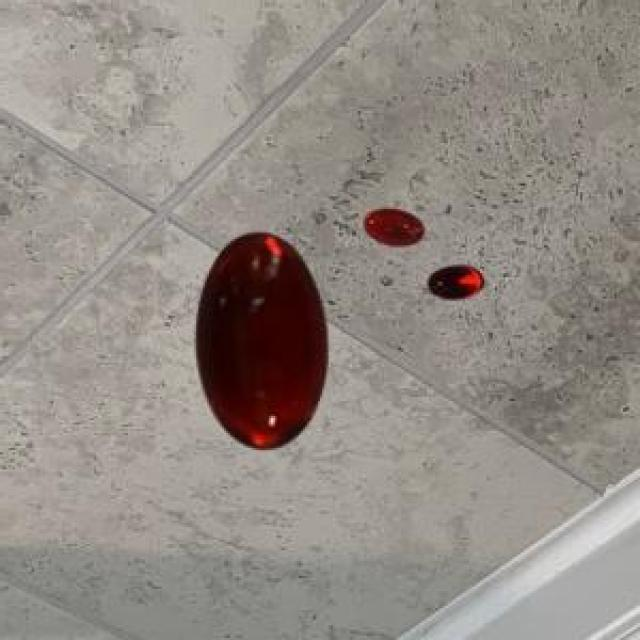Medicol: (186, 221, 340, 457), (352, 197, 431, 254), (423, 259, 491, 311)
